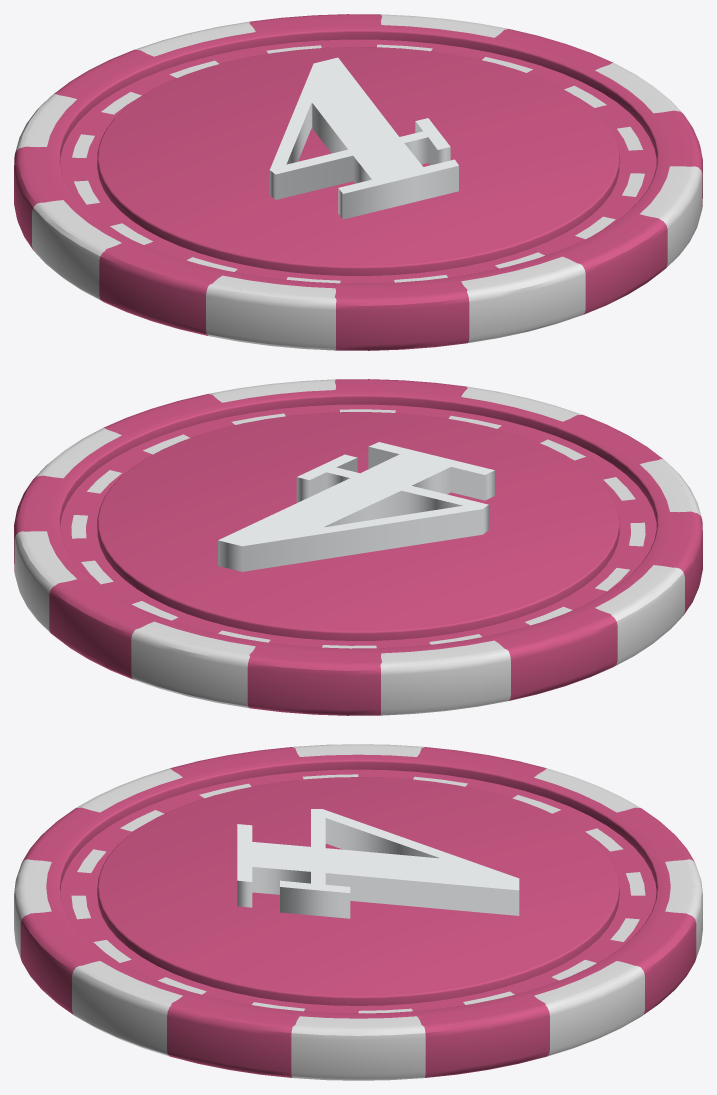
The model's file is 4_coin.glb.
3 views of the same model, one above another, from view 1: azimuth 30°, elevation 25°; view 2: azimuth 150°, elevation 25°; view 3: azimuth 270°, elevation 25° (orthographic).
Parts seen in each view (by area): view 1: Chip.006, Text.002; view 2: Chip.006, Text.002; view 3: Chip.006, Text.002.
Part boxes in pixels (x1=…): Chip.006: x1=14, y1=14, x2=702, y2=350; Text.002: x1=269, y1=57, x2=458, y2=219; Chip.006: x1=14, y1=379, x2=702, y2=715; Text.002: x1=218, y1=442, x2=494, y2=571; Chip.006: x1=14, y1=744, x2=702, y2=1080; Text.002: x1=237, y1=809, x2=519, y2=918.
Bounding box in the file's own units: 5.28 × 0.8 × 5.28.
